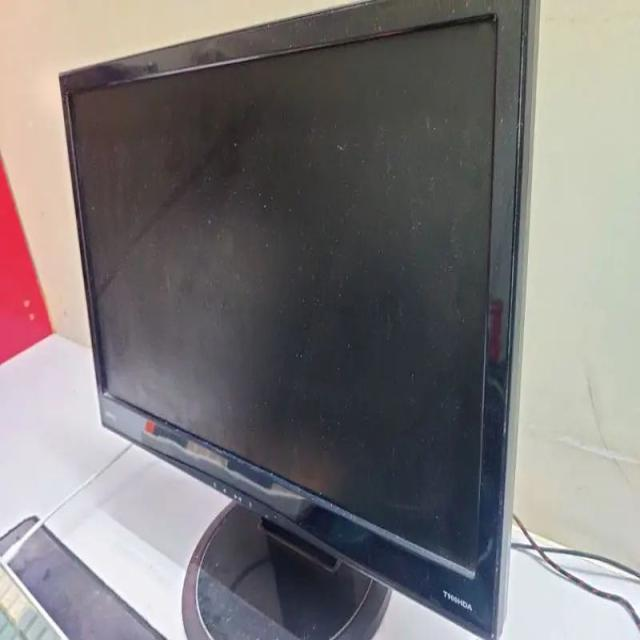electronic: (57, 0, 539, 637)
